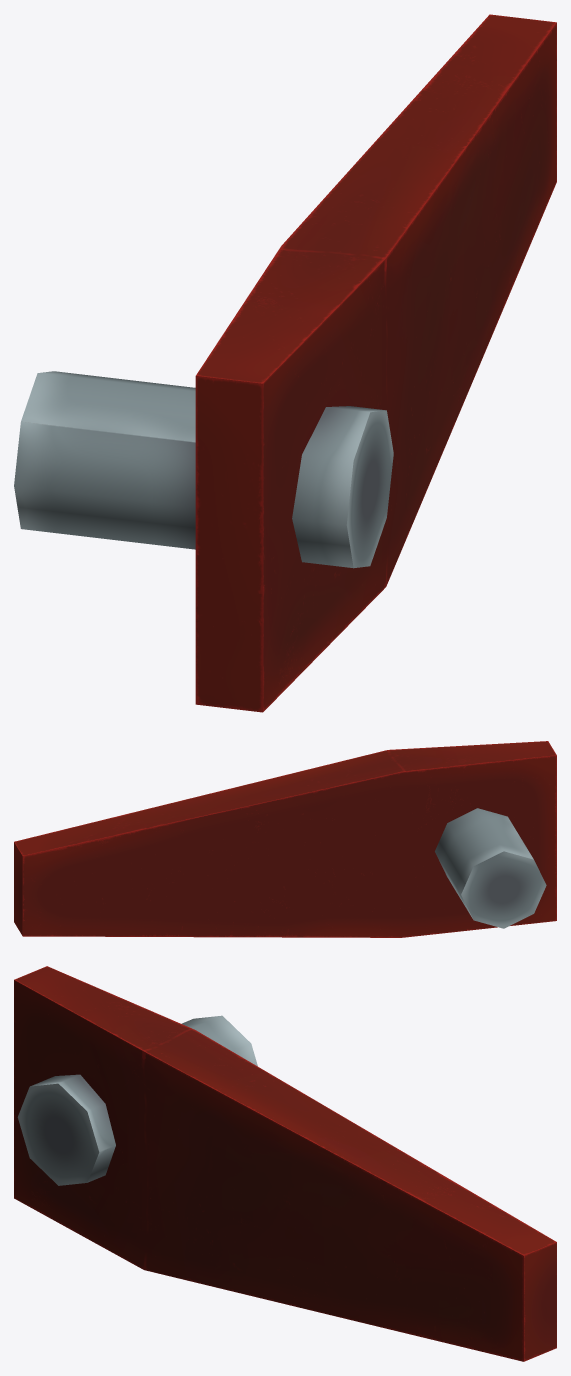
File: bathroom_valve_V01.glb
The picture shows the model from 3 angles, top to bottom: view 1: azimuth 30°, elevation 25°; view 2: azimuth 150°, elevation 25°; view 3: azimuth 270°, elevation 25°; orthographic projection. The views are drawn at different scales.
Visible parts, largest first — view 1: Cube.001; view 2: Cube.001; view 3: Cube.001.
Boxes of the visible parts, <box> form: Cube.001: <box>14,14,556,712</box>; Cube.001: <box>14,741,556,937</box>; Cube.001: <box>14,966,556,1361</box>.
Bounding box in the file's own units: 0.1565 × 0.0614 × 0.1383.
1 material, 1 textured.
